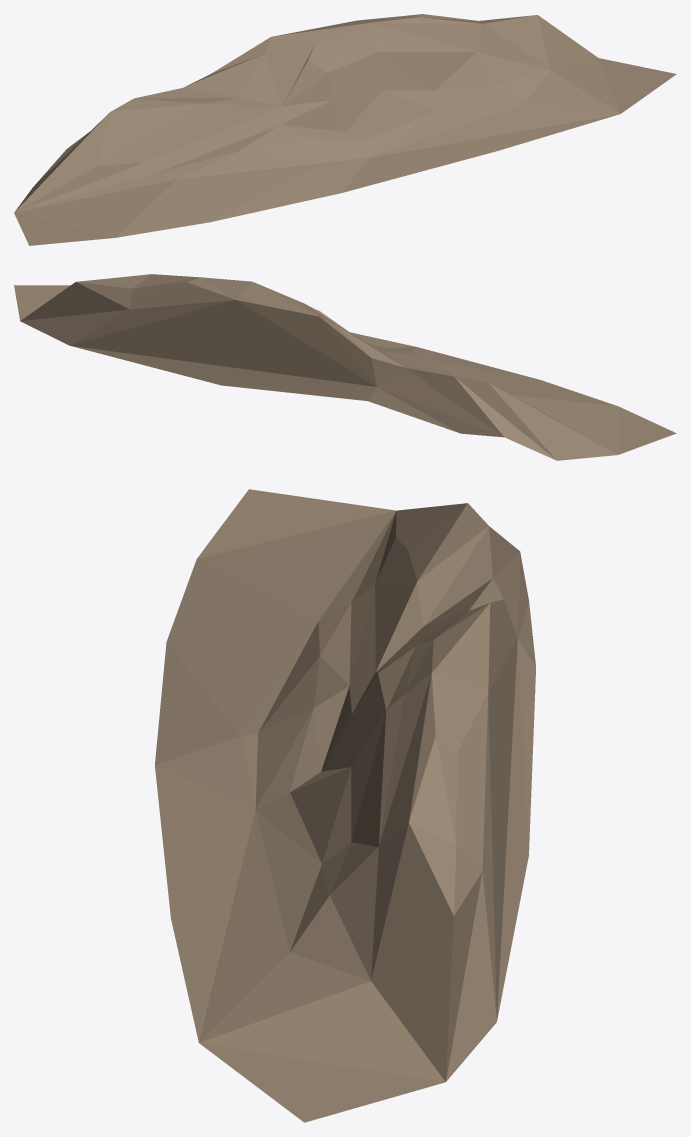
File: SM_Env_GroundMound_Edge_02.fbx
3 views of the same model, one above another, from view 1: azimuth 30°, elevation 25°; view 2: azimuth 150°, elevation 25°; view 3: azimuth 270°, elevation 25° (orthographic). The views are drawn at different scales.
Visible parts, largest first — view 1: SM_Env_GroundMound_Edge_02; view 2: SM_Env_GroundMound_Edge_02; view 3: SM_Env_GroundMound_Edge_02.
Boxes of the visible parts, left/top/right/bottom form: SM_Env_GroundMound_Edge_02: left=14, top=14, right=676, bottom=245; SM_Env_GroundMound_Edge_02: left=14, top=274, right=676, bottom=460; SM_Env_GroundMound_Edge_02: left=155, top=489, right=535, bottom=1122.
Bounding box in the file's own units: 7.35 × 1 × 1.87.
